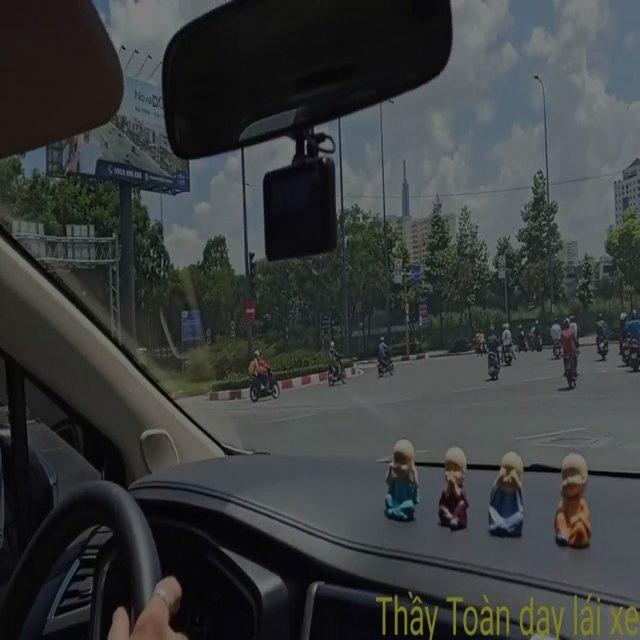Cấm các phương tiện hoạt động trong khung giờ cố định: (388, 251, 403, 287), (495, 252, 507, 279)
Cấm xe máy: (403, 303, 409, 312)
Cấm đi ngược chiều: (245, 294, 256, 323)
Khác: (179, 309, 204, 345), (417, 296, 429, 325)
Làn đường cho từng xe: (411, 260, 422, 283)
